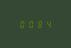eight: (34, 20, 41, 28)
four: (42, 20, 49, 28)
zero: (18, 20, 25, 28), (26, 20, 33, 28)
